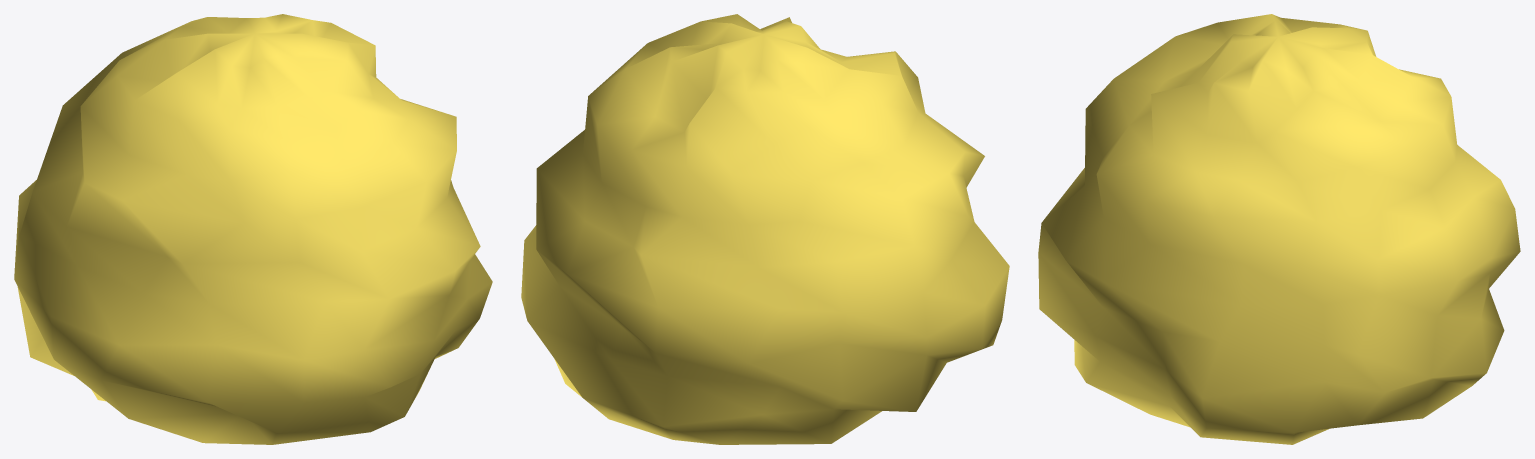
The model's file is ArbolSeco_06.fbx.
The picture shows the model from 3 angles, left to right: view 1: azimuth 30°, elevation 25°; view 2: azimuth 150°, elevation 25°; view 3: azimuth 270°, elevation 25°; orthographic projection.
Visible parts, largest first — view 1: ArbolSeco_06; view 2: ArbolSeco_06; view 3: ArbolSeco_06.
Part boxes in pixels (bbox=[...]): ArbolSeco_06: bbox=[14, 14, 492, 444]; ArbolSeco_06: bbox=[521, 14, 1009, 444]; ArbolSeco_06: bbox=[1038, 14, 1520, 444].
Bounding box in the file's own units: 838 × 652 × 860.
